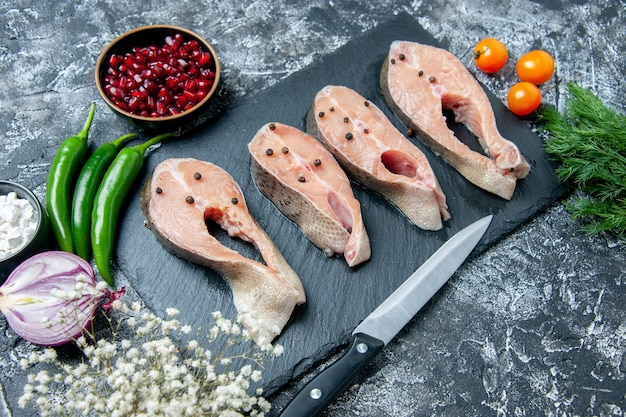knife: (275, 214, 493, 417)
